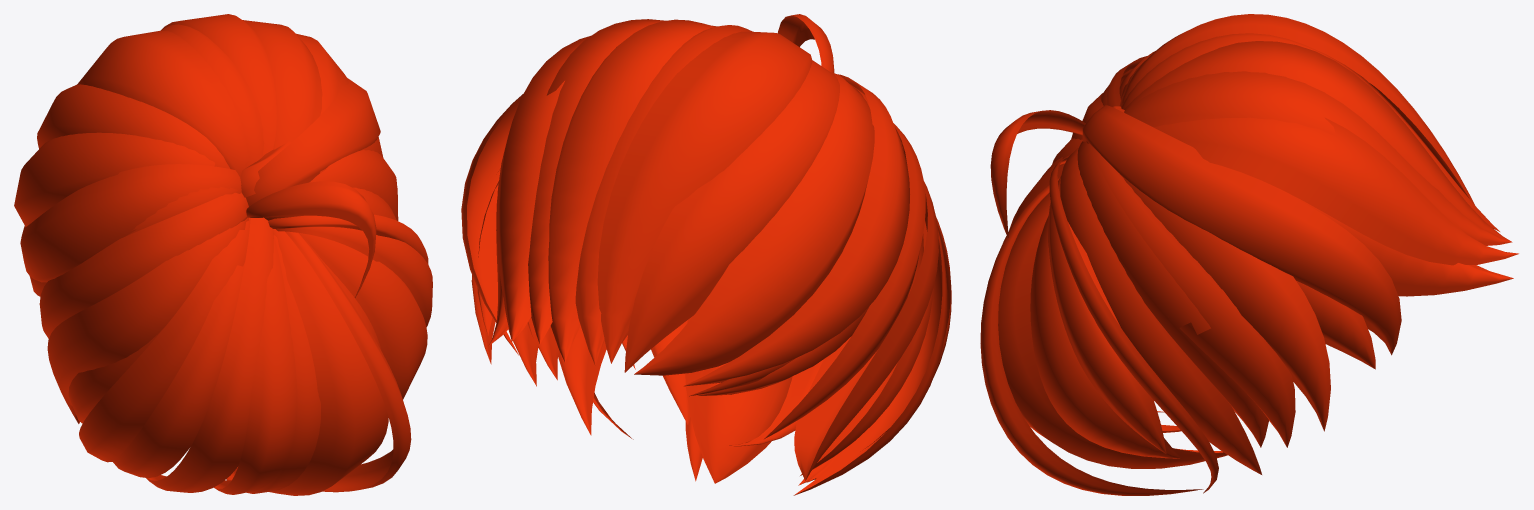
File: Hair_anime_male.fbx
3 views of the same model, side by side, from view 1: azimuth 30°, elevation 25°; view 2: azimuth 150°, elevation 25°; view 3: azimuth 270°, elevation 25° (orthographic). The views are drawn at different scales.
Visible parts, largest first — view 1: haiir-male; view 2: haiir-male; view 3: haiir-male.
Part boxes in pixels (x1=…): haiir-male: x1=14, y1=14, x2=432, y2=495; haiir-male: x1=461, y1=14, x2=951, y2=495; haiir-male: x1=980, y1=14, x2=1518, y2=495.
Bounding box in the file's own units: 20.1 × 24.1 × 26.81.
